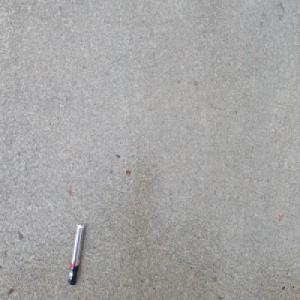Battery: (67, 220, 85, 286)
